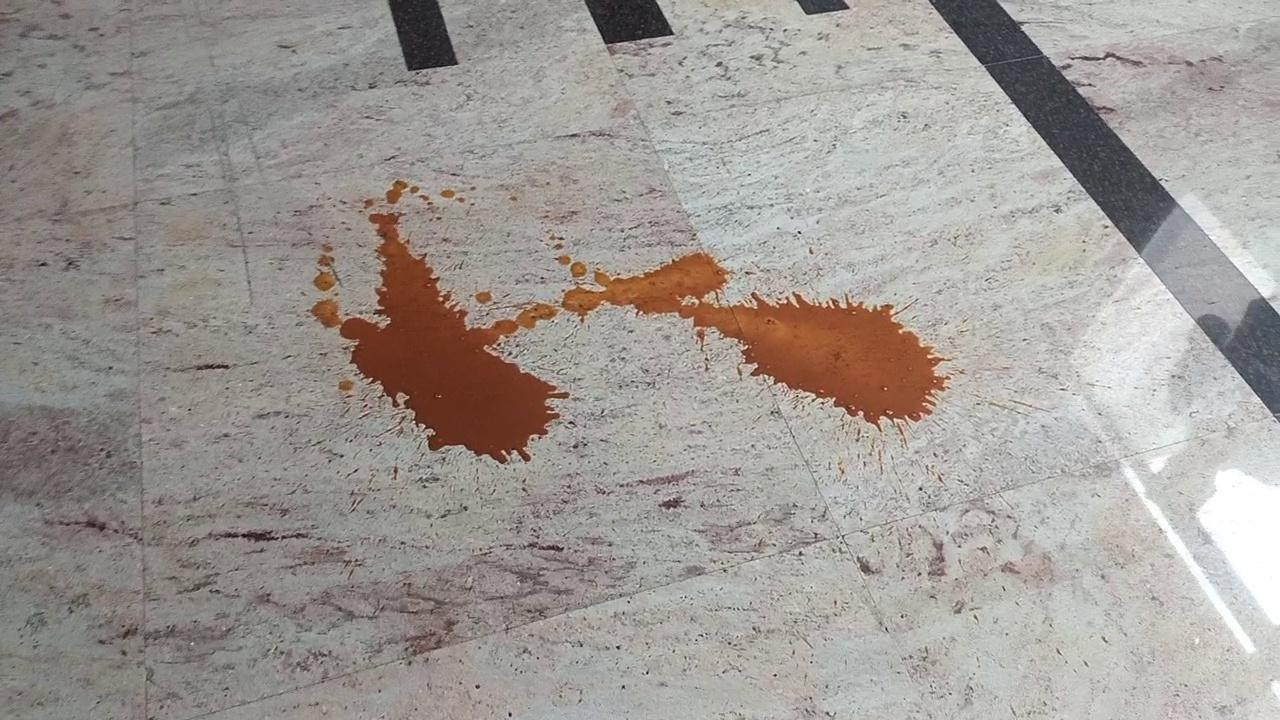dirty_floor: (312, 173, 947, 457)
